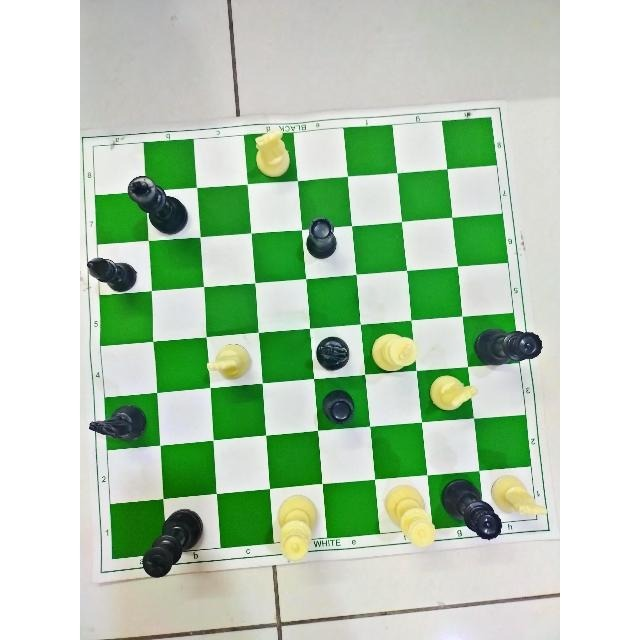black-bishop: (84, 256, 137, 292)
black-king: (142, 508, 204, 579), (125, 174, 188, 236)
black-knight: (88, 404, 148, 444), (316, 335, 350, 370)
black-queen: (440, 479, 503, 543), (474, 327, 544, 366)
black-rook: (306, 216, 338, 259), (322, 389, 356, 423)
white-king: (370, 332, 418, 372)
white-knight: (491, 473, 551, 516), (429, 374, 479, 412), (253, 130, 291, 178), (206, 344, 252, 382)
white-queen: (383, 483, 438, 551), (277, 494, 318, 563)
